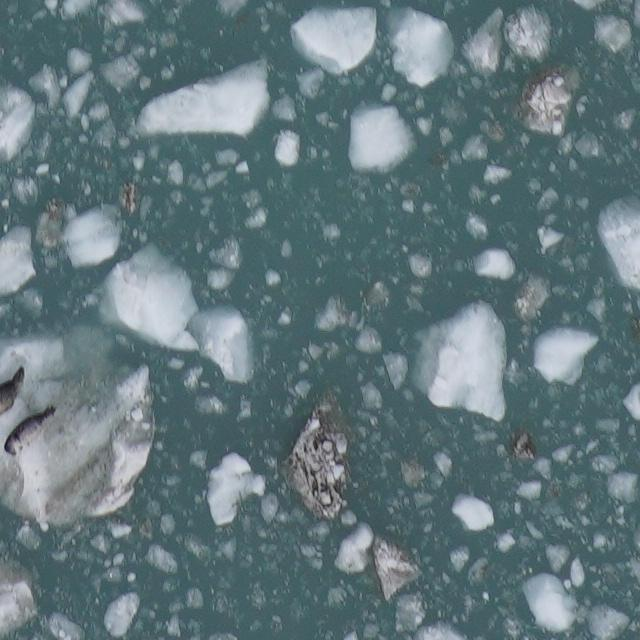seal: (0, 402, 61, 460), (0, 363, 31, 418)
